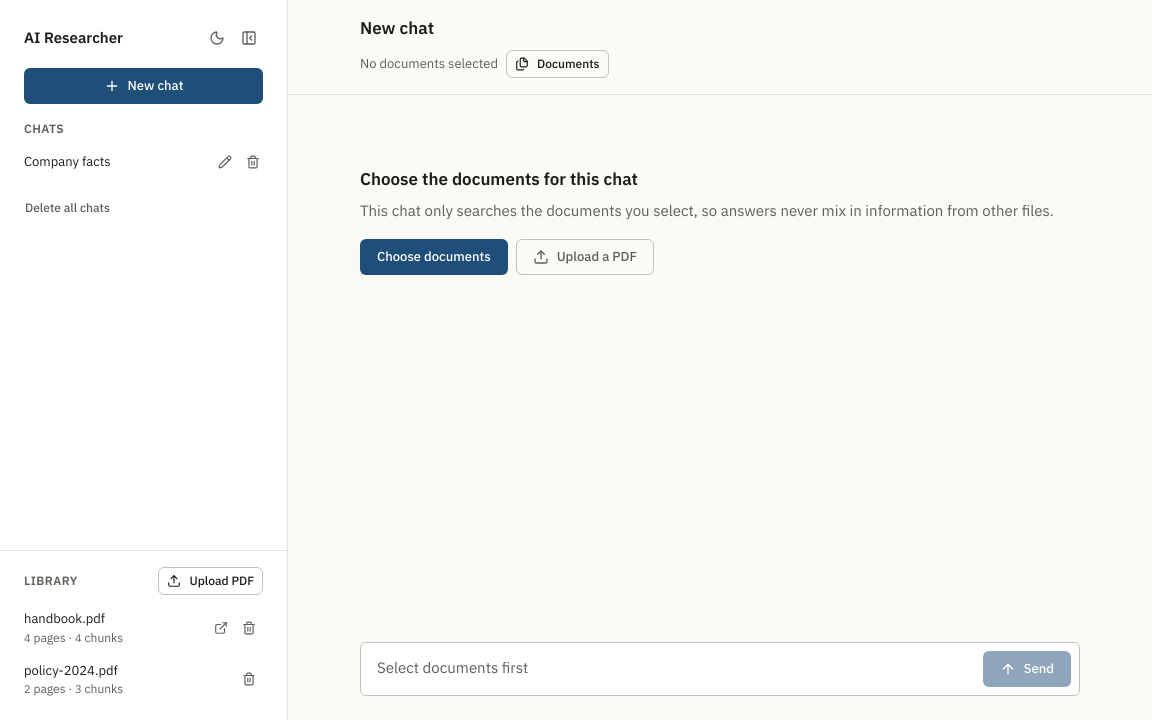
it: DocumentPicker › saves the ticked documents for an open chat
This screenshot has width=1152, height=720.
Click the button "Company facts": click(112, 162) [16,146,207,178]
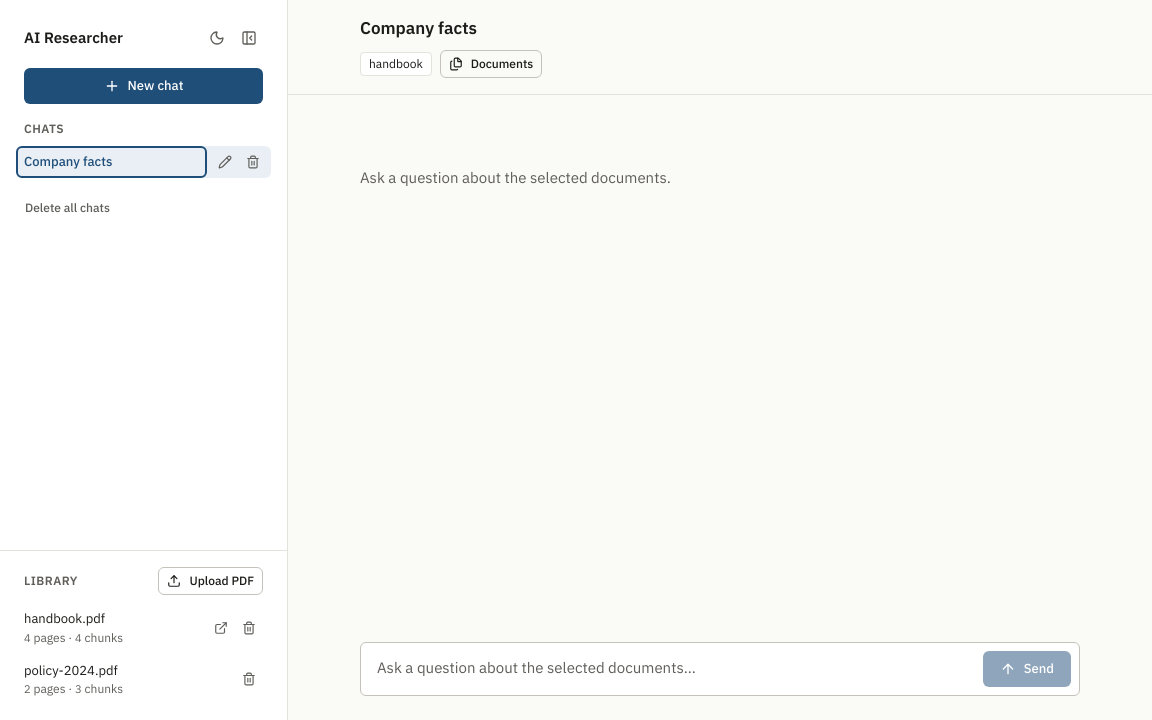
Result: the heading "Company facts" is shown at [360,16,477,42]
Click the button "Documents": click(491, 64) [440,50,542,78]
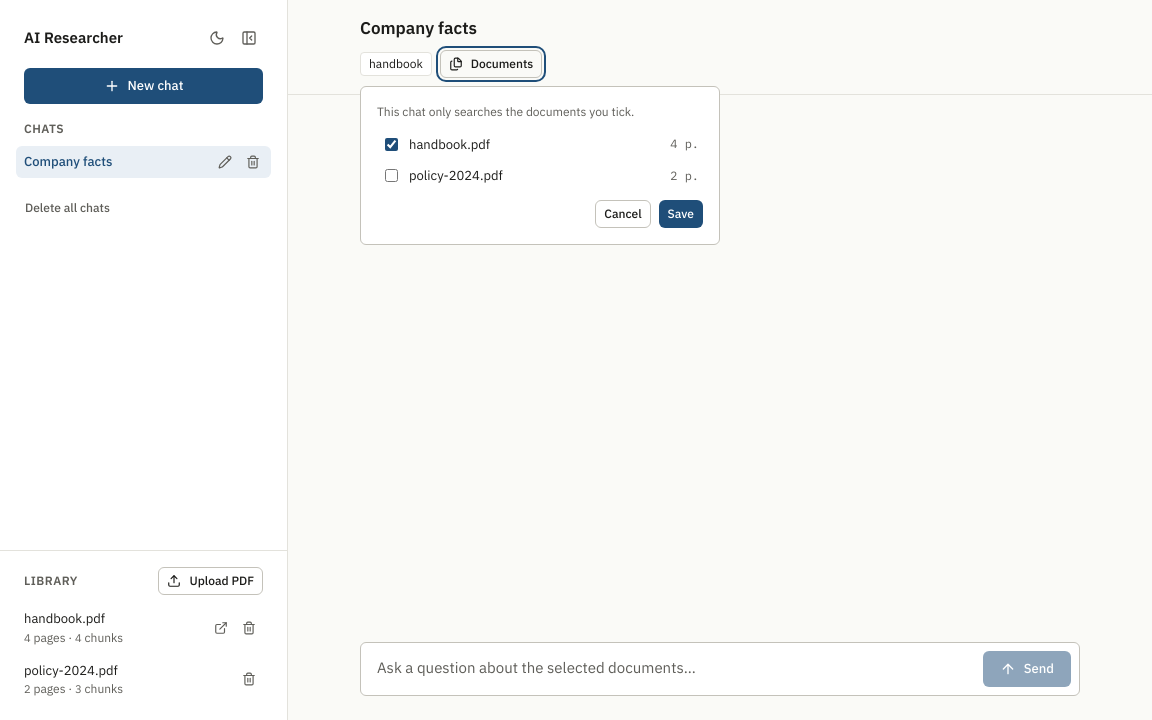
Result: the checkbox labelled "handbook.pdf 4 p." is checked at [385,138,398,151]
Click the checkbox labelled "policy-2024.pdf 2 p.": click(392, 176) [385,169,398,182]
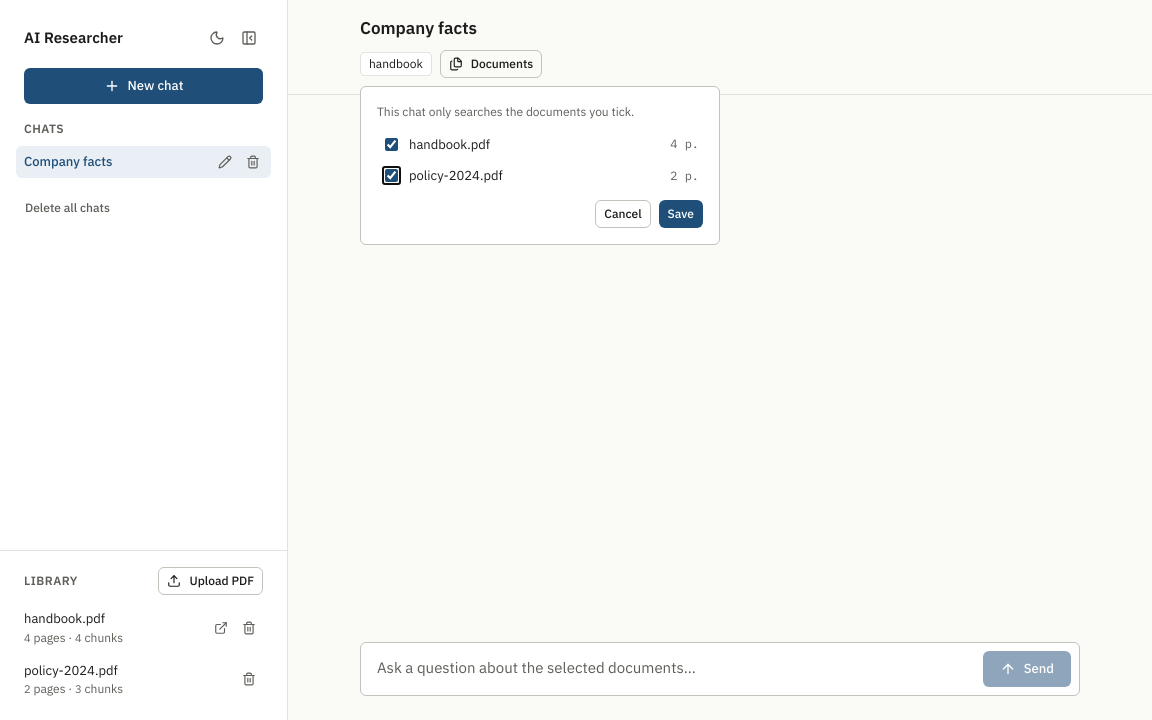
Click the button "Save": click(681, 214) [659,200,703,228]
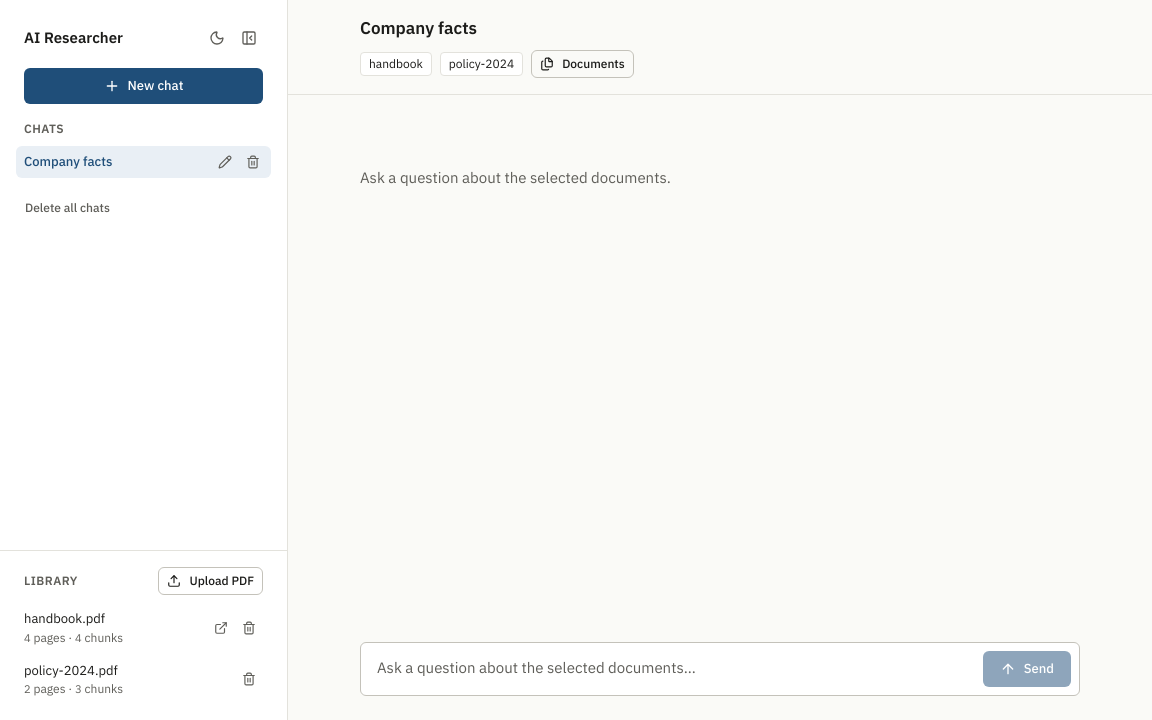
Result: the list items read "handbook", "policy-2024", in this order at [360,52,432,76]; [440,52,523,76]
Result: the dialog is gone
